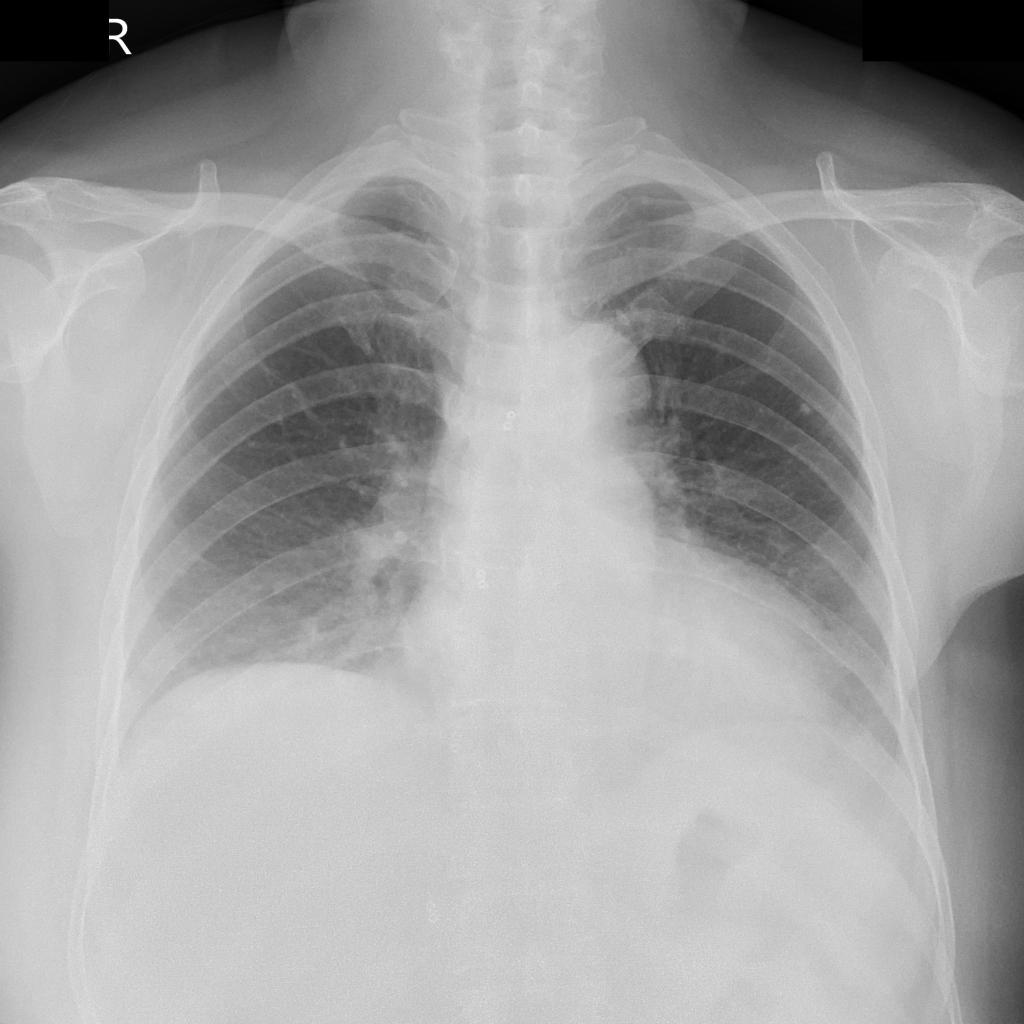Nodule: (799, 404, 813, 415)
